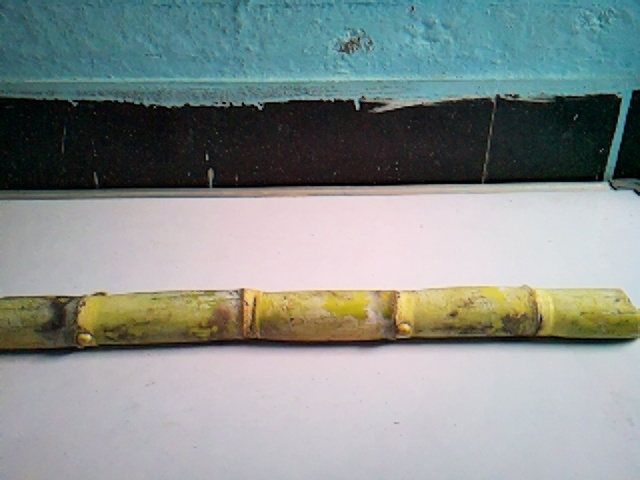Good Sugarcane: (2, 291, 640, 342)
Node: (56, 288, 115, 352), (505, 279, 557, 341), (223, 285, 273, 344), (379, 285, 421, 342)
